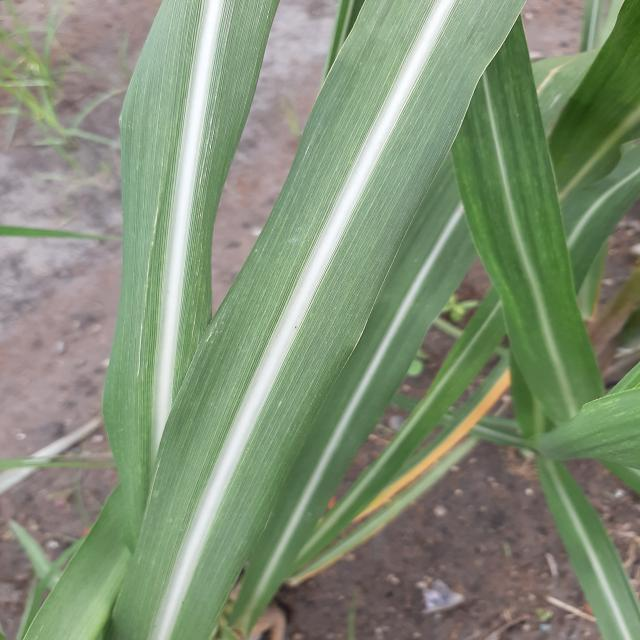Sugarcane: (11, 1, 637, 638)
